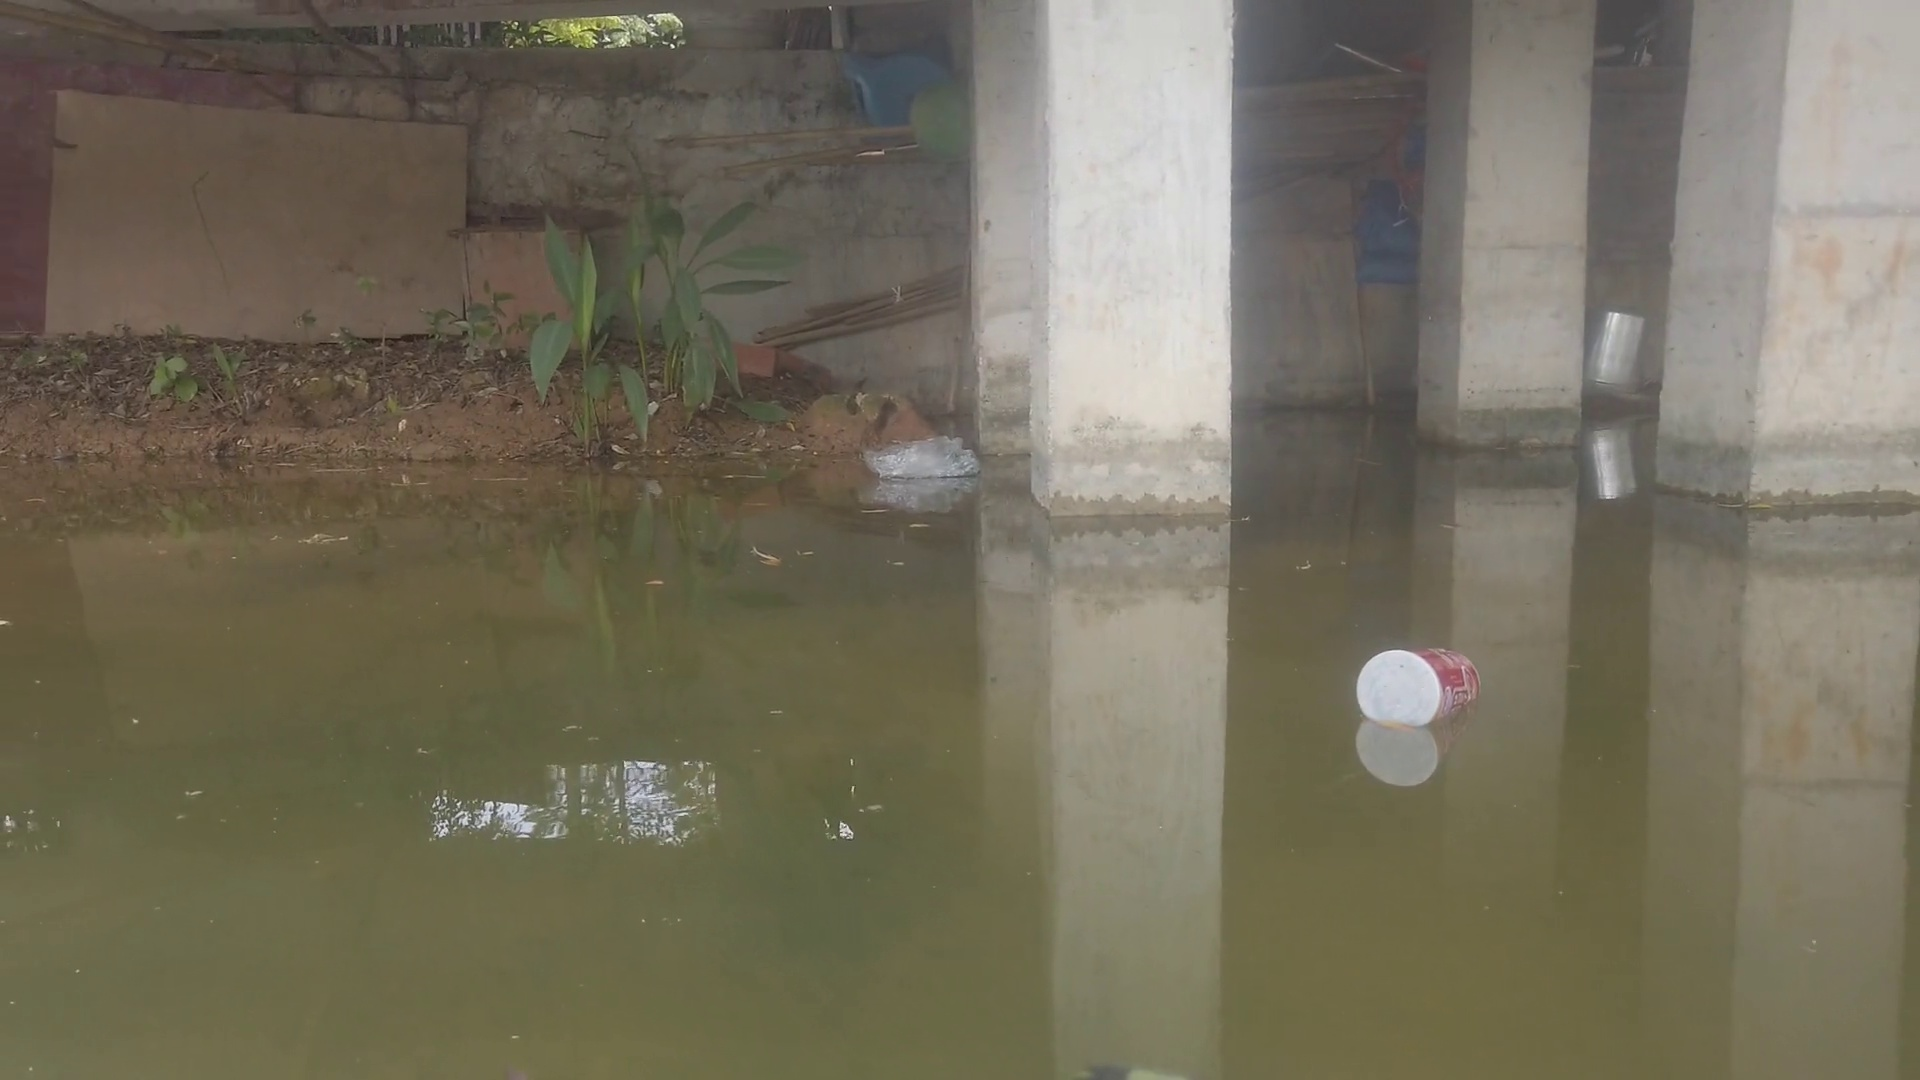bottle: (1333, 630, 1481, 727)
plastic: (853, 430, 992, 484)
